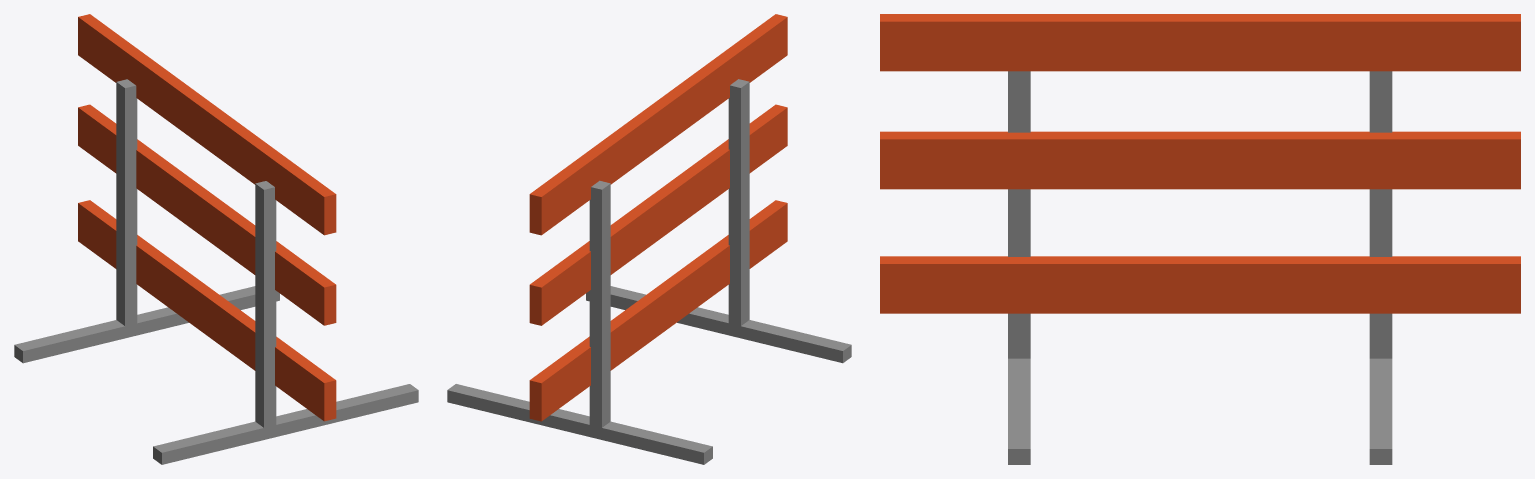
The model's file is (Multi)BarricadeWIP.fbx.
3 renders of one model, left to right at view 1: azimuth 30°, elevation 25°; view 2: azimuth 150°, elevation 25°; view 3: azimuth 270°, elevation 25°, orthographic. The views are drawn at different scales.
Parts seen in each view (by area): view 1: Barricade; view 2: Barricade; view 3: Barricade.
Part boxes in pixels (bbox=[...]): Barricade: bbox=[14, 14, 418, 464]; Barricade: bbox=[447, 14, 851, 464]; Barricade: bbox=[880, 14, 1520, 464].
Size of the model in its own units: 166 by 171 by 275.
